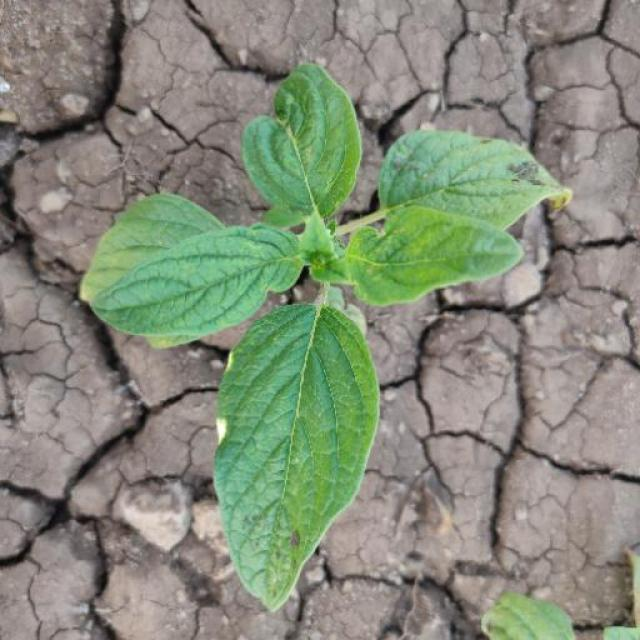crop: (87, 80, 578, 609)
